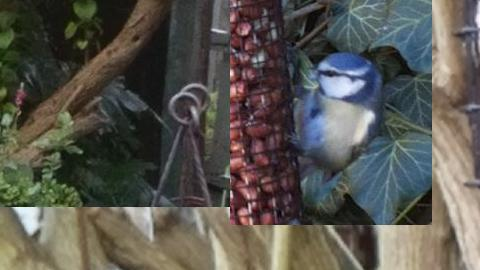blue tit: (278, 50, 382, 201)
